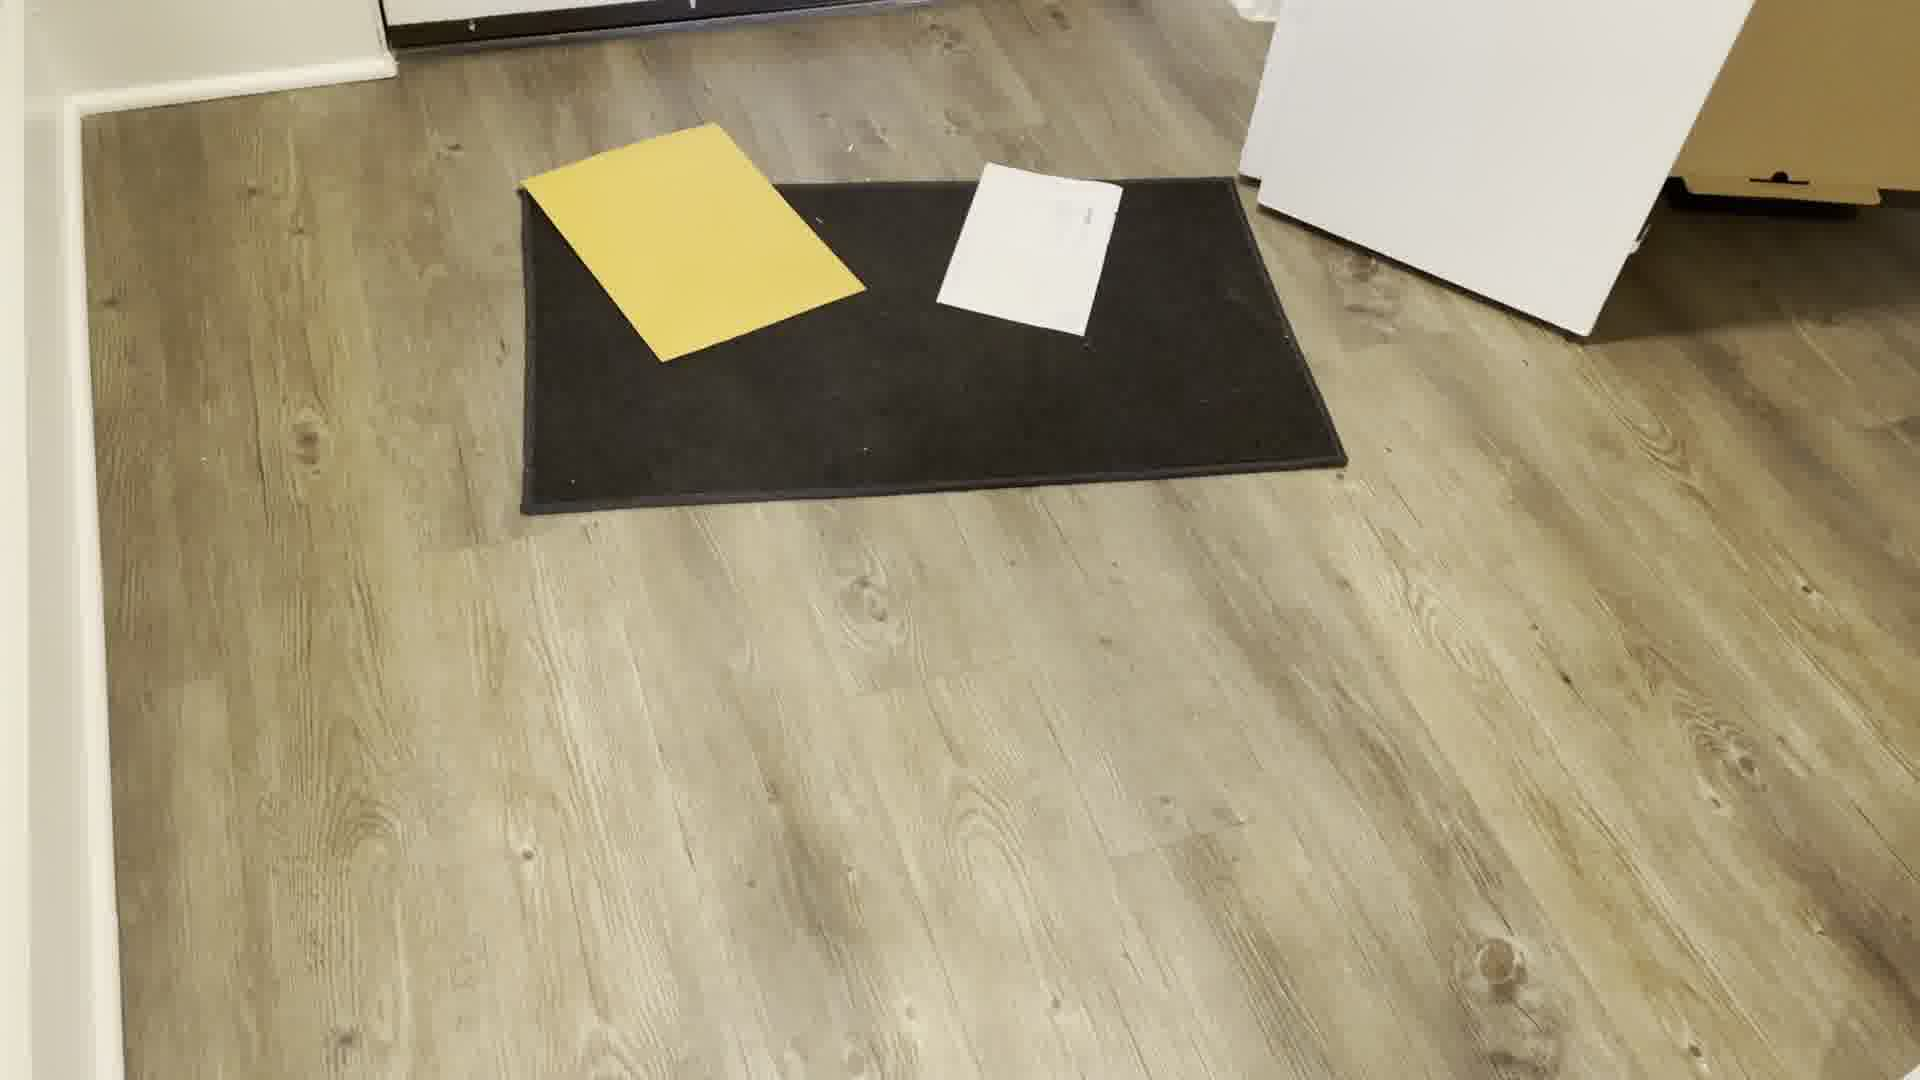envelope: (505, 109, 881, 372), (923, 149, 1145, 347)
